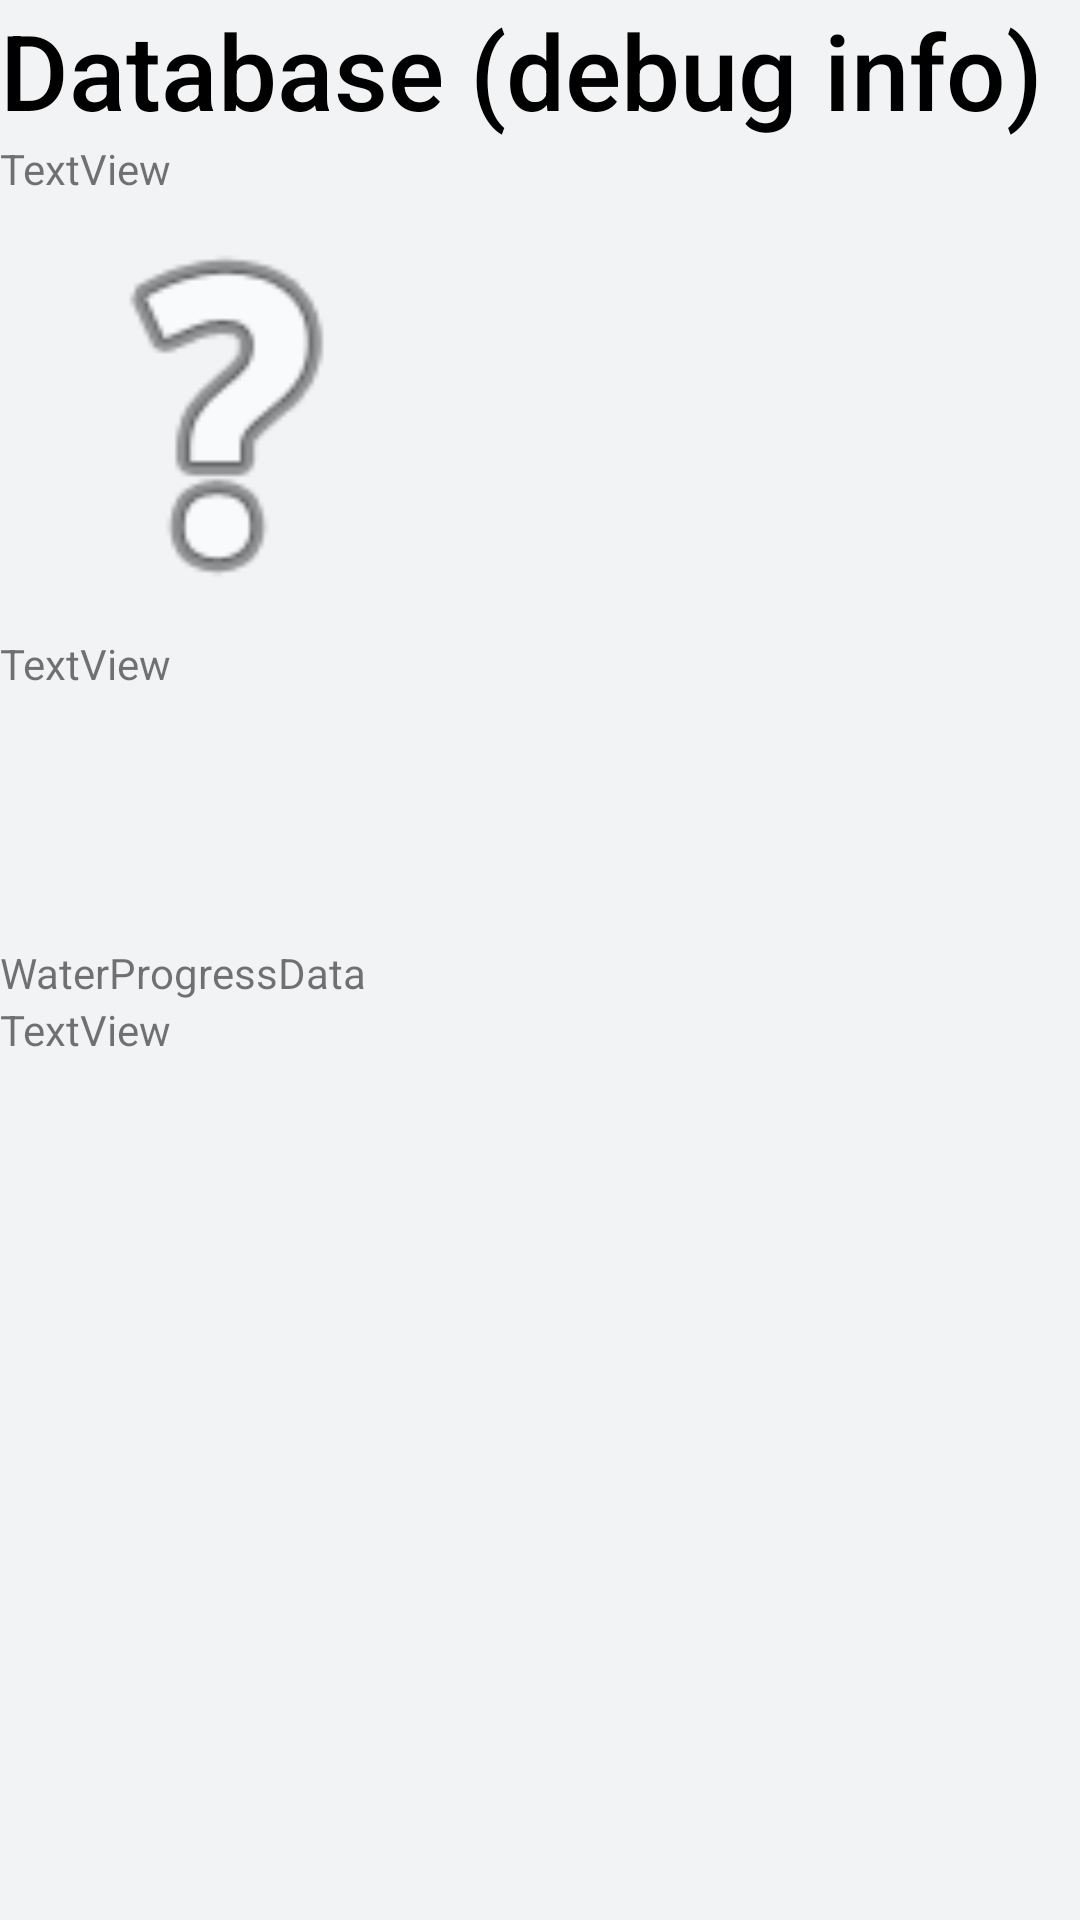

Screen size 1080w x 1920h. Icon name, then its box in pixels as {"left": x1, "top": y1, "right": x2, "bottom": y2}:
help: {"left": 130, "top": 259, "right": 323, "bottom": 573}
